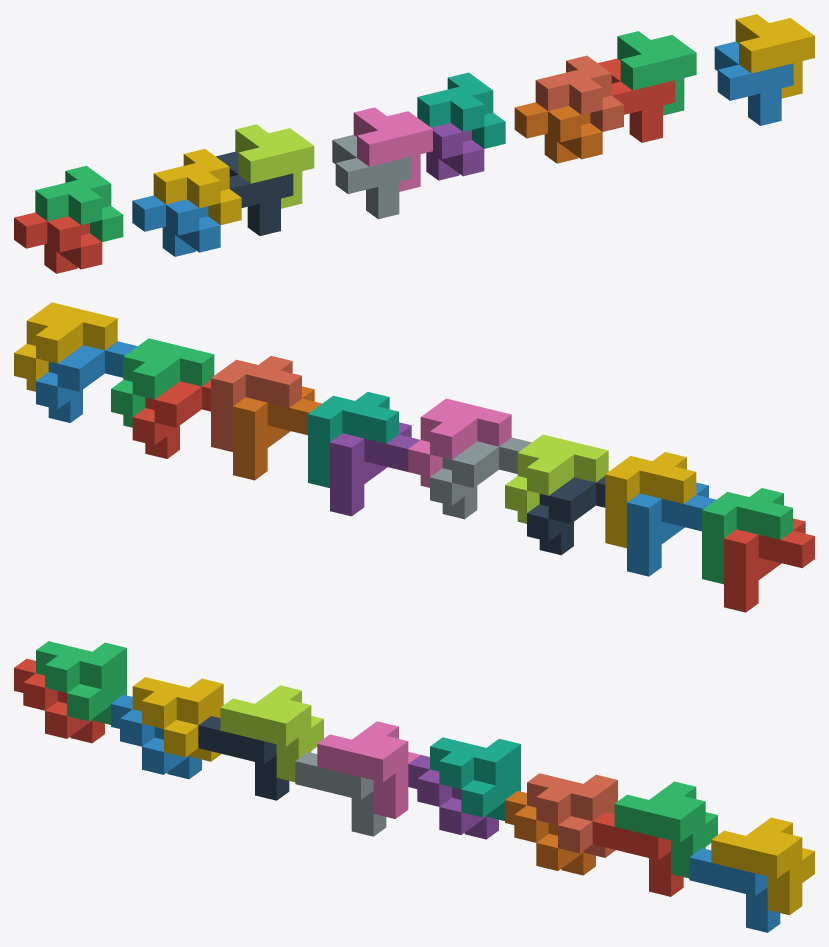
Rendered from tiling.obj.
3 renders of one model, top to bottom at view 1: azimuth 30°, elevation 25°; view 2: azimuth 150°, elevation 25°; view 3: azimuth 330°, elevation 25°, orthographic. The views are drawn at different scales.
Parts seen in each view (by area): view 1: copy_1_domain_3, copy_1_domain_4, copy_2_domain_7, copy_1_domain_8, copy_2_domain_3, copy_1_domain_7, copy_2_domain_8, copy_2_domain_4, copy_2_domain_6, copy_2_domain_2, copy_1_domain_6, copy_1_domain_2 (+4 smaller); view 2: copy_2_domain_8, copy_2_domain_4, copy_2_domain_3, copy_2_domain_7, copy_1_domain_1, copy_1_domain_4, copy_1_domain_7, copy_1_domain_3, copy_1_domain_8, copy_1_domain_5, copy_1_domain_2, copy_1_domain_6 (+4 smaller); view 3: copy_2_domain_8, copy_1_domain_3, copy_1_domain_7, copy_2_domain_4, copy_2_domain_3, copy_2_domain_7, copy_1_domain_4, copy_1_domain_8, copy_2_domain_2, copy_1_domain_5, copy_2_domain_1, copy_2_domain_6 (+4 smaller).
Boxes of the visible parts, bbox=[...] form: copy_1_domain_3: bbox=[35, 165, 123, 241]; copy_1_domain_4: bbox=[153, 149, 241, 225]; copy_2_domain_7: bbox=[617, 31, 696, 115]; copy_1_domain_8: bbox=[535, 55, 623, 131]; copy_2_domain_3: bbox=[235, 124, 314, 208]; copy_1_domain_7: bbox=[417, 72, 505, 148]; copy_2_domain_8: bbox=[735, 14, 814, 98]; copy_2_domain_4: bbox=[353, 107, 432, 191]; copy_2_domain_6: bbox=[714, 41, 793, 125]; copy_2_domain_2: bbox=[332, 135, 411, 219]; copy_1_domain_6: bbox=[514, 102, 602, 163]; copy_1_domain_2: bbox=[132, 195, 220, 256]; copy_2_domain_8: bbox=[14, 302, 117, 391]; copy_2_domain_4: bbox=[408, 398, 511, 487]; copy_2_domain_3: bbox=[505, 434, 608, 523]; copy_2_domain_7: bbox=[111, 338, 214, 427]; copy_1_domain_1: bbox=[724, 518, 814, 612]; copy_1_domain_4: bbox=[605, 452, 696, 548]; copy_1_domain_7: bbox=[308, 392, 398, 487]; copy_1_domain_3: bbox=[702, 488, 792, 584]; copy_1_domain_8: bbox=[211, 356, 301, 451]; copy_1_domain_5: bbox=[330, 422, 419, 516]; copy_1_domain_2: bbox=[627, 482, 715, 576]; copy_1_domain_6: bbox=[233, 386, 321, 480]; copy_2_domain_8: bbox=[711, 817, 814, 915]; copy_1_domain_3: bbox=[36, 641, 126, 724]; copy_1_domain_7: bbox=[430, 737, 520, 820]; copy_2_domain_4: bbox=[317, 721, 420, 818]; copy_2_domain_3: bbox=[220, 685, 323, 782]; copy_2_domain_7: bbox=[614, 781, 717, 878]; copy_1_domain_4: bbox=[132, 677, 223, 761]; copy_1_domain_8: bbox=[527, 773, 617, 857]; copy_2_domain_2: bbox=[295, 752, 386, 836]; copy_1_domain_5: bbox=[408, 755, 498, 839]; copy_2_domain_1: bbox=[198, 716, 289, 800]; copy_2_domain_6: bbox=[689, 848, 780, 932].
Size of the model in its own units: 36 by 4 by 4.
